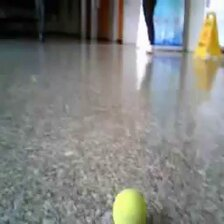tennis: (112, 188, 146, 224)
